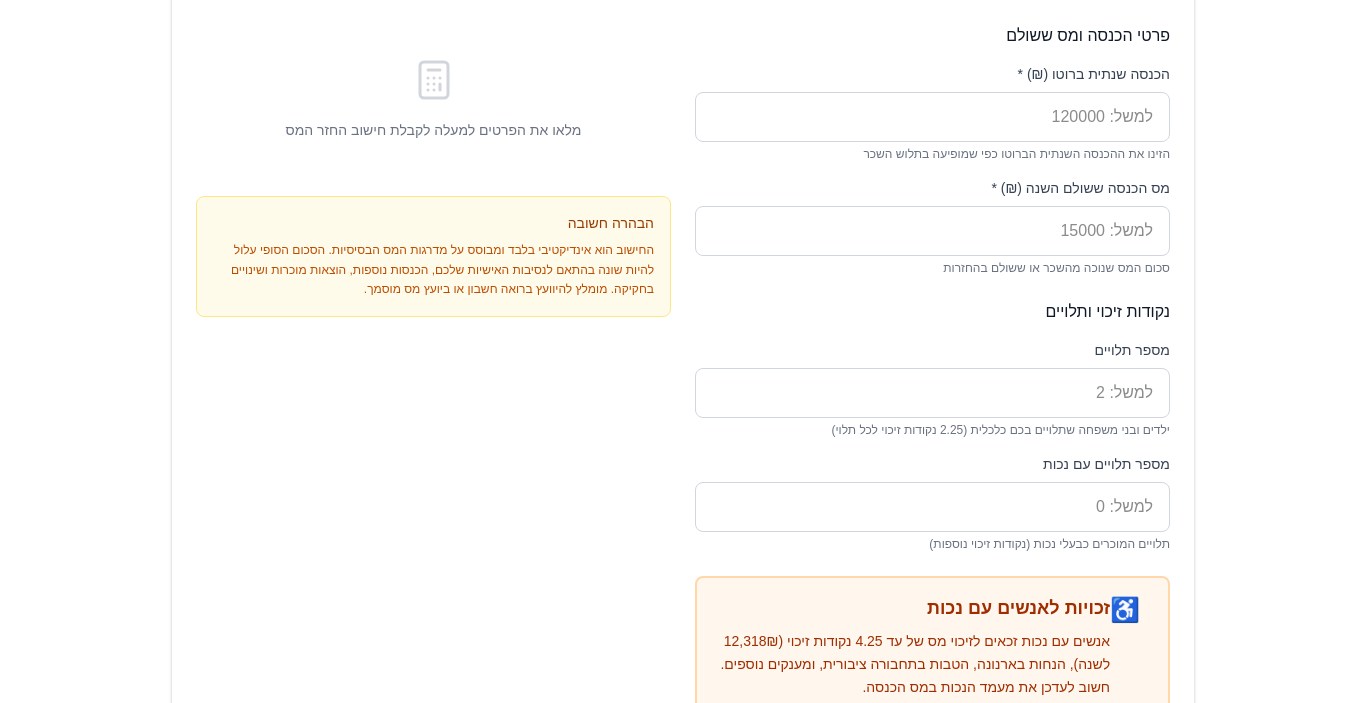
Test: TaxRefundCalculatorEnhanced › Tax Calculations › calculates tax refund correctly for basic scenario
# Fill form with test data
Type "100000" into the number field labelled "הכנסה שנתית ברוטו (₪) *" at x=932, y=117, box x1=695 y1=92 x2=1170 y2=142
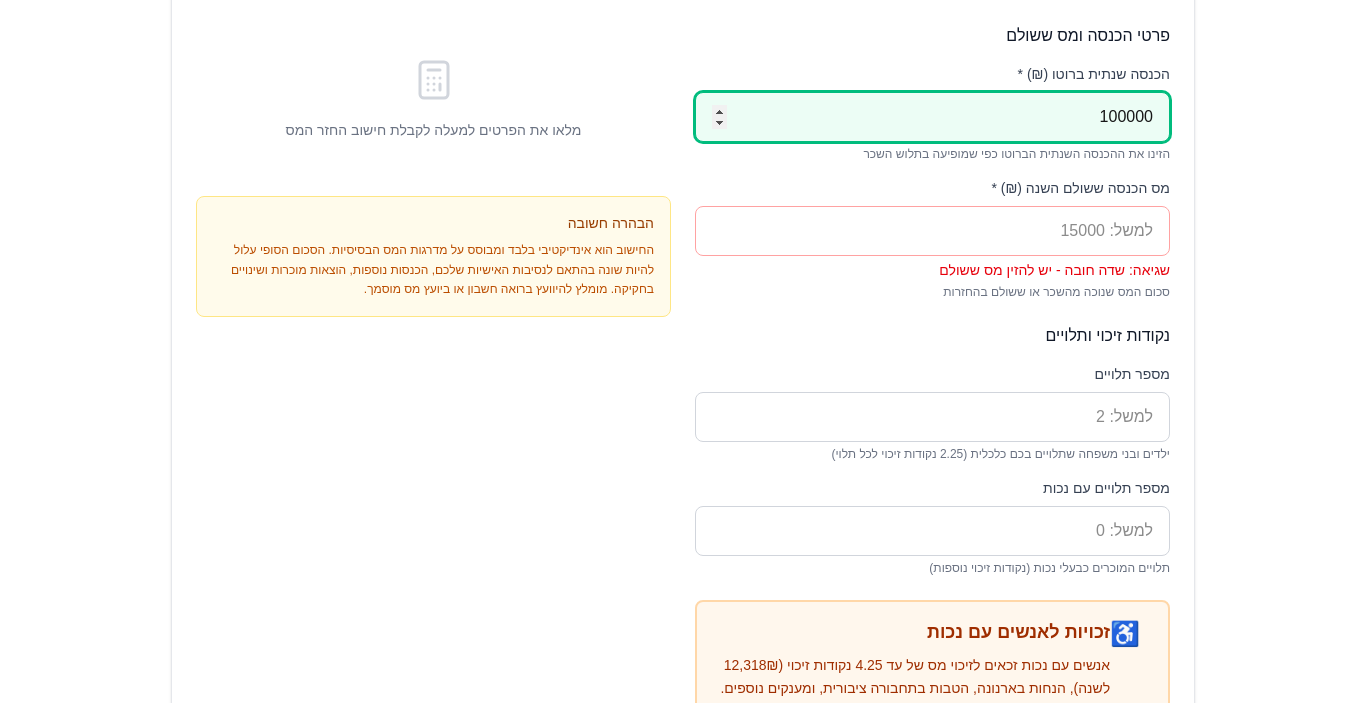
Type "15000" into the number field labelled "מס הכנסה ששולם השנה (₪) *" at x=932, y=231, box x1=695 y1=206 x2=1170 y2=256
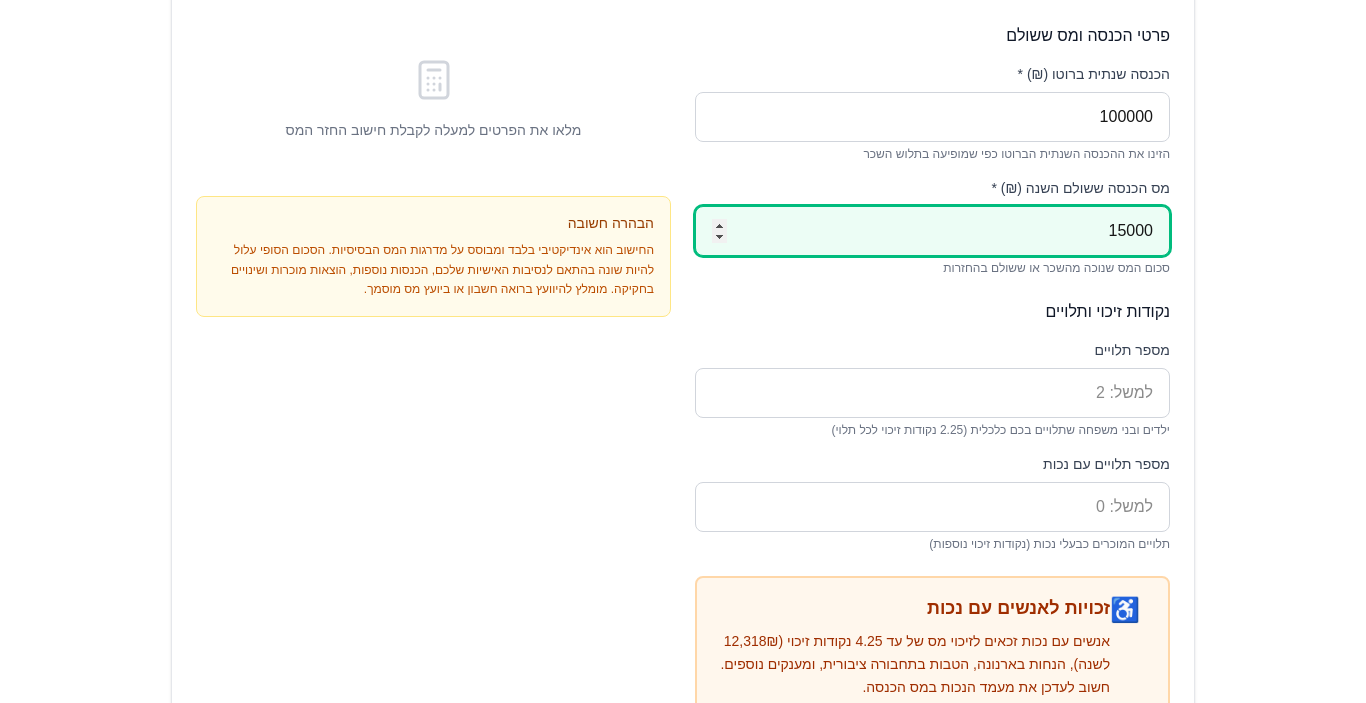
Type "2" into the number field labelled "מספר תלויים" at x=932, y=393, box x1=695 y1=368 x2=1170 y2=418
(page scrolled)
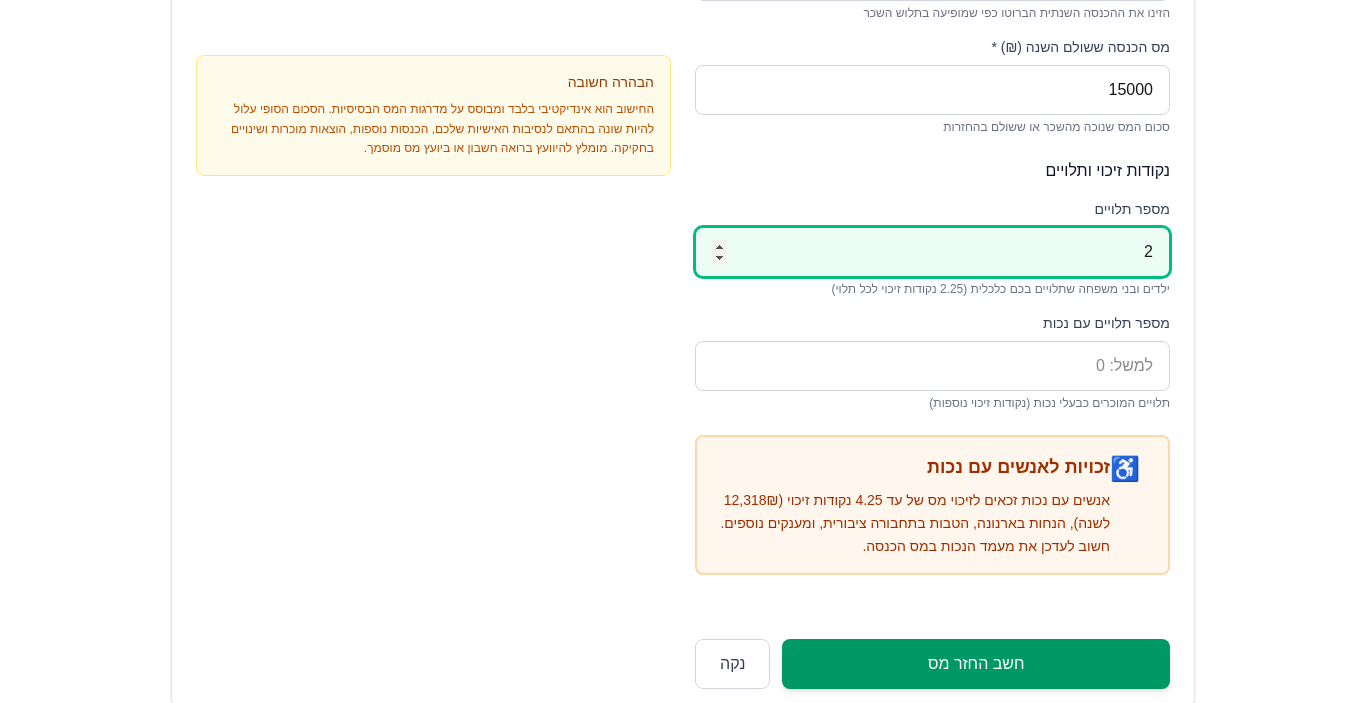
# Submit calculation
Click the button "חשב החזר מס" at x=976, y=664, box x1=782 y1=639 x2=1170 y2=689
(page scrolled)
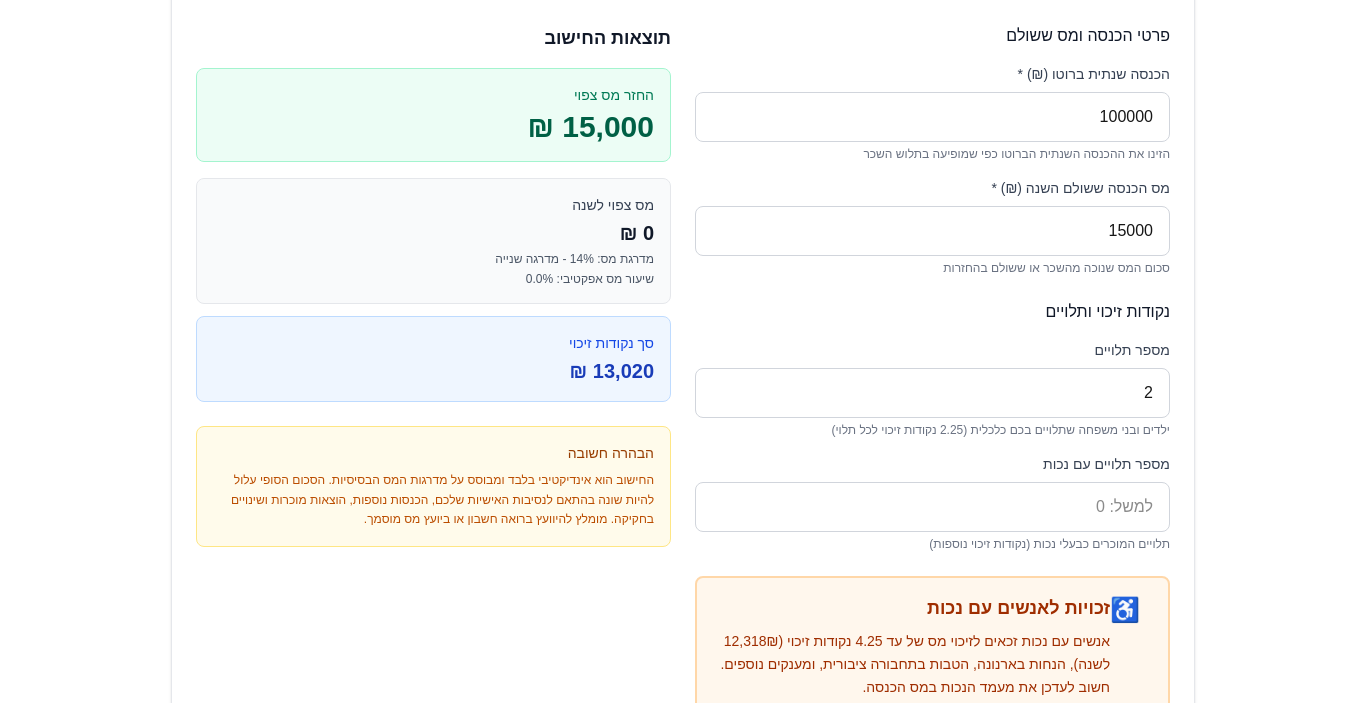
expect the heading "תוצאות החישוב" is shown: met, box x1=544 y1=28 x2=671 y2=48
expect the text "החזר מס צפוי" is shown: met, box x1=574 y1=87 x2=654 y2=103
